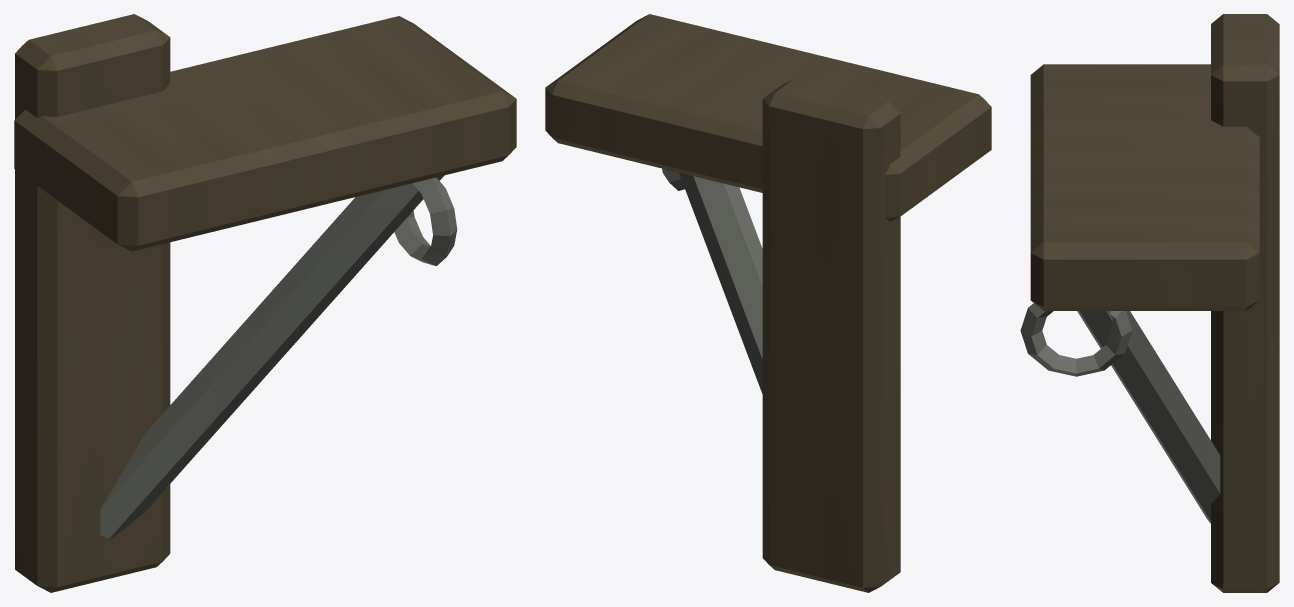
Rendered from WarrensC_WVC078_BellBracket_Mars_SM.fbx.
3 renders of one model, left to right at view 1: azimuth 30°, elevation 25°; view 2: azimuth 150°, elevation 25°; view 3: azimuth 270°, elevation 25°, orthographic. The views are drawn at different scales.
Parts seen in each view (by area): view 1: WarrensC_WVC078_BellBracket_Mars_SM.001; view 2: WarrensC_WVC078_BellBracket_Mars_SM.001; view 3: WarrensC_WVC078_BellBracket_Mars_SM.001.
Boxes of the visible parts, x1,y1,x2,y2 form: WarrensC_WVC078_BellBracket_Mars_SM.001: (14, 14, 516, 592); WarrensC_WVC078_BellBracket_Mars_SM.001: (545, 14, 991, 592); WarrensC_WVC078_BellBracket_Mars_SM.001: (1020, 14, 1279, 592).
Bounding box in the file's own units: 70 × 40 × 90.
